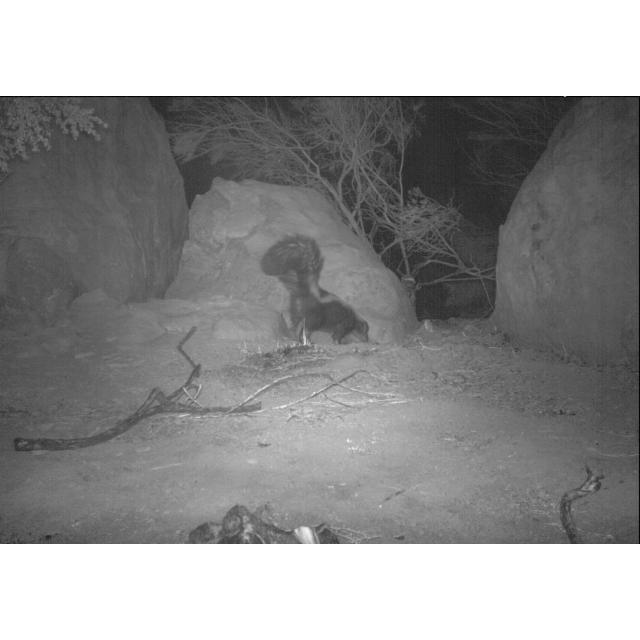animals: (258, 230, 374, 350)
